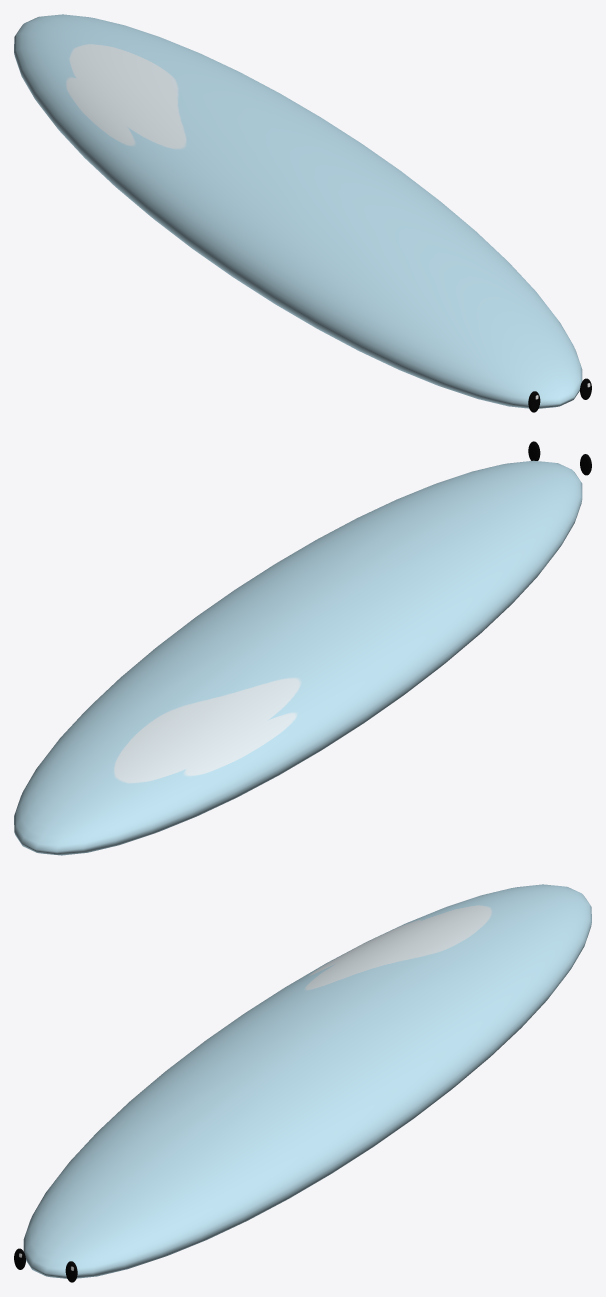
Rendered from nobi  1.fbx.
The picture shows the model from 3 angles, top to bottom: view 1: azimuth 30°, elevation 25°; view 2: azimuth 150°, elevation 25°; view 3: azimuth 330°, elevation 25°; orthographic projection.
Parts seen in each view (by area): view 1: pCylinder3; view 2: pCylinder3; view 3: pCylinder3.
Boxes of the visible parts, x1,y1,x2,y2 form: pCylinder3: (14,14,591,412); pCylinder3: (14,441,591,855); pCylinder3: (14,884,591,1282).
Size of the model in its own units: 2.65 by 0.8216 by 10.81.
2 materials, 2 textured.
